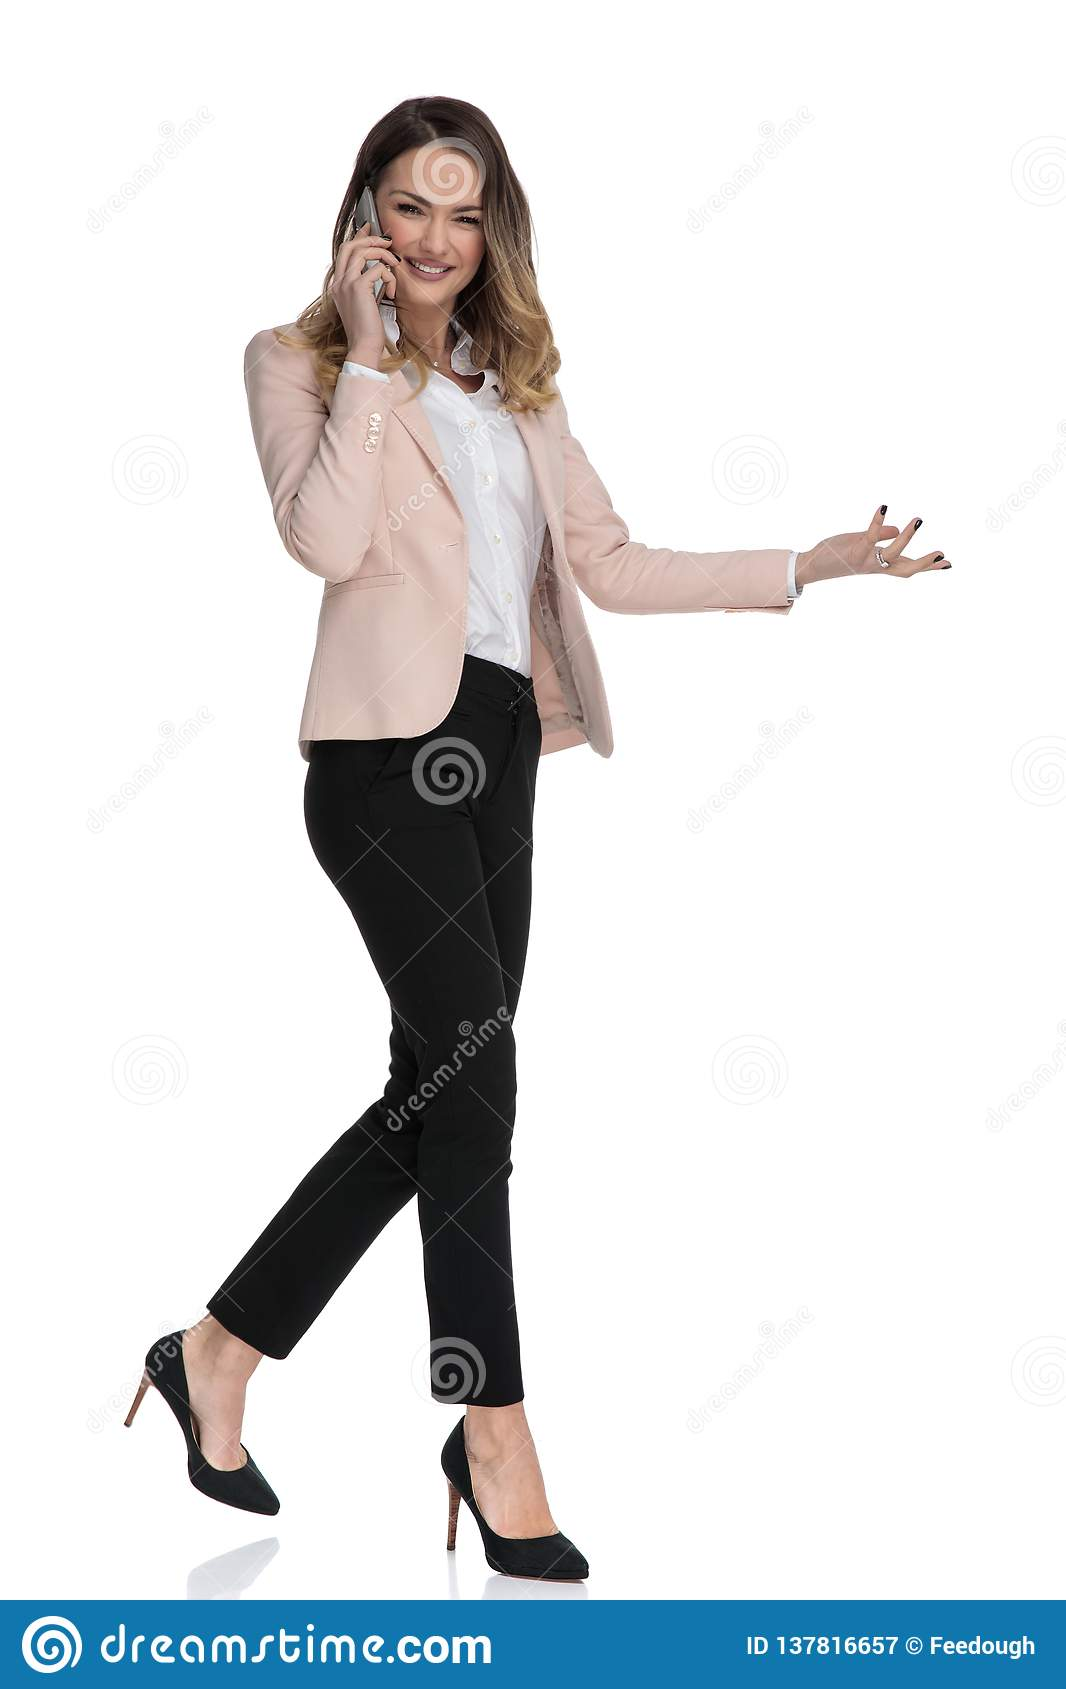phone: (351, 180, 392, 315)
talk: (325, 171, 481, 357)
